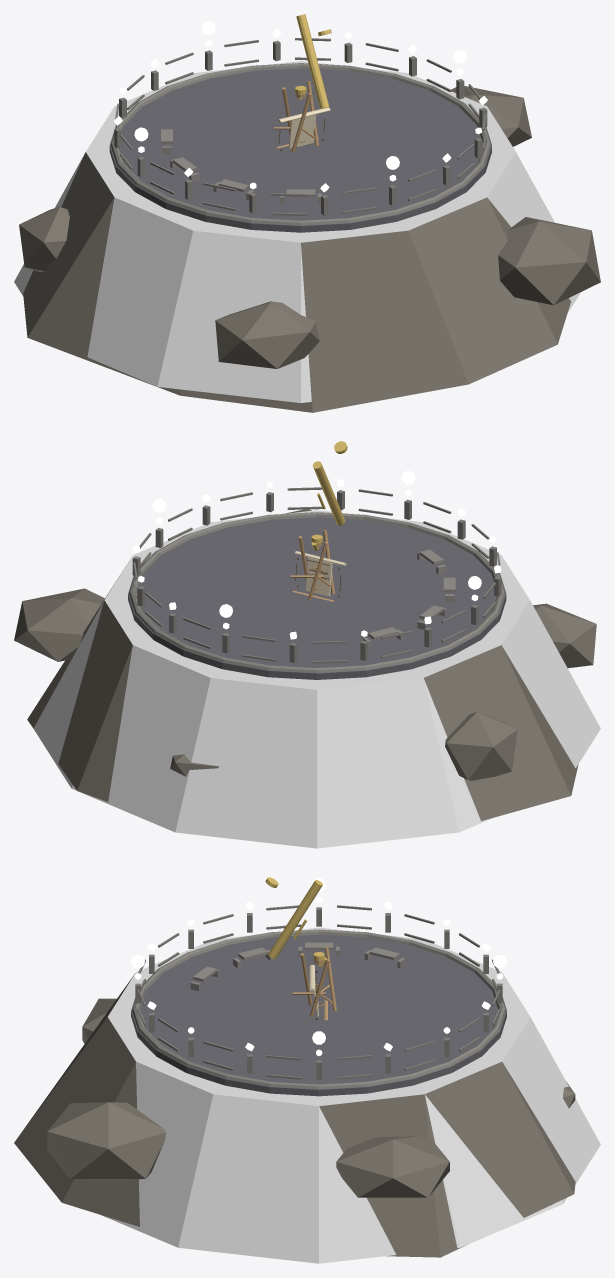
The model's file is gen_1772902863263.glb.
The picture shows the model from 3 angles, top to bottom: view 1: azimuth 30°, elevation 25°; view 2: azimuth 150°, elevation 25°; view 3: azimuth 270°, elevation 25°; orthographic projection.
Parts seen in each view (by area): view 1: RockOutcrop_Base.001, Observatory_Floor, RockOutcrop_Base, RockChunk_4, RockChunk_3, Floor_Edge, RockChunk_2, RockChunk_0, TelescopeTube, Parchment; view 2: RockOutcrop_Base, Observatory_Floor, RockOutcrop_Base.001, Floor_Edge, RockChunk_0, RockChunk_2, RockChunk_3, Parchment, TelescopeTube; view 3: RockOutcrop_Base, Observatory_Floor, RockOutcrop_Base.001, RockChunk_4, RockChunk_0, Floor_Edge, TelescopeTube, RockChunk_3.
Part boxes in pixels (x1,y1,x2,y2): RockOutcrop_Base.001: [23, 152, 570, 412]; Observatory_Floor: [109, 68, 491, 232]; RockOutcrop_Base: [14, 61, 580, 402]; RockChunk_4: [498, 217, 600, 305]; RockChunk_3: [215, 301, 319, 368]; Floor_Edge: [110, 63, 490, 225]; RockChunk_2: [19, 207, 69, 272]; RockChunk_0: [451, 86, 531, 146]; TelescopeTube: [296, 14, 329, 108]; Parchment: [288, 114, 316, 148]; RockOutcrop_Base: [33, 510, 600, 848]; Observatory_Floor: [128, 517, 506, 679]; RockOutcrop_Base.001: [27, 571, 578, 821]; Floor_Edge: [129, 512, 505, 673]; RockChunk_0: [14, 588, 104, 661]; RockChunk_2: [445, 712, 517, 780]; RockChunk_3: [533, 603, 596, 668]; Parchment: [305, 557, 332, 596]; TelescopeTube: [312, 461, 345, 525]; RockOutcrop_Base: [101, 927, 600, 1263]; Observatory_Floor: [131, 934, 506, 1096]; RockOutcrop_Base.001: [14, 974, 575, 1257]; RockChunk_4: [47, 1102, 166, 1179]; RockChunk_0: [336, 1136, 449, 1197]; Floor_Edge: [132, 929, 505, 1089]; TelescopeTube: [268, 880, 322, 959]; RockChunk_3: [82, 998, 116, 1043].
Size of the model in its own units: 12.7 by 6.5 by 12.49.
